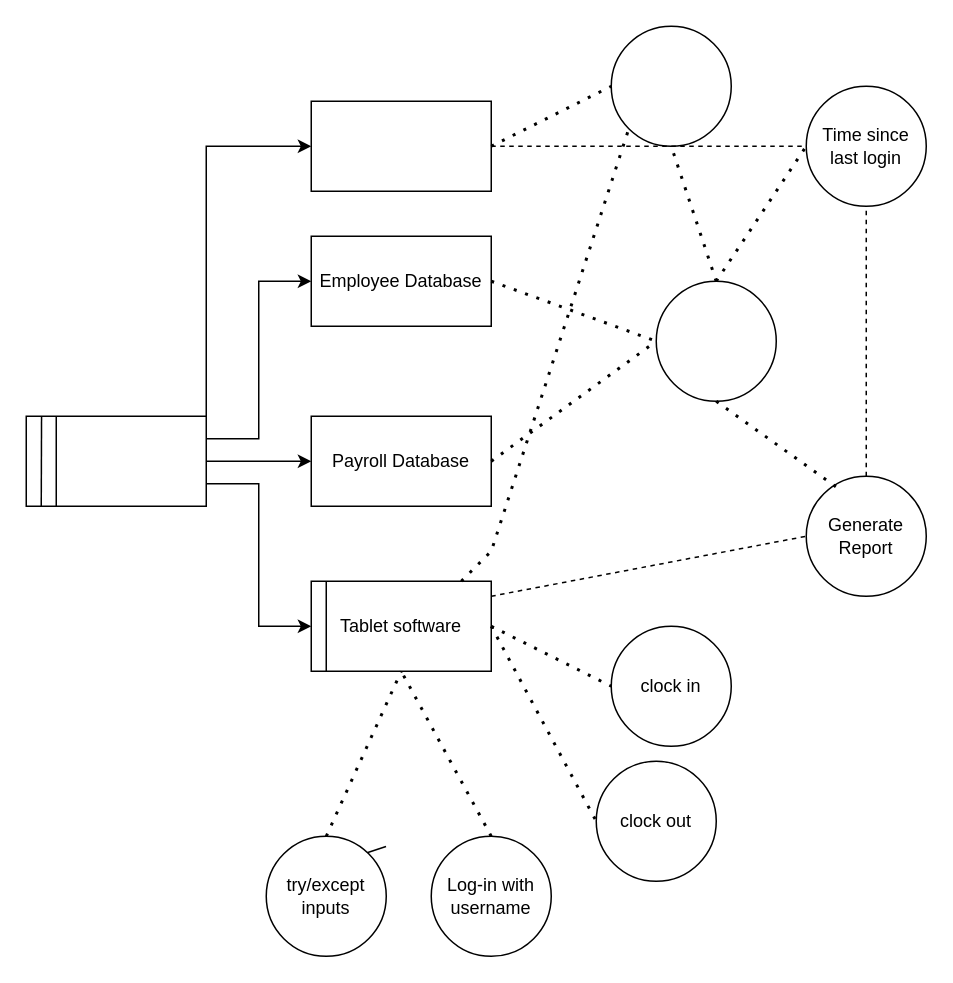
The diagram is 953 pixels wide and 983 high, and some of its shapes have lost their labels. The shapes that lost their labels are listed below. From the top down, each one's centre as x and y in pixels, then its label:
point 670,85: Get current time
point 400,145: Time (Probably just get that from the tablet/server)
point 715,340: Calc earnings
point 115,460: Clock in/out System
